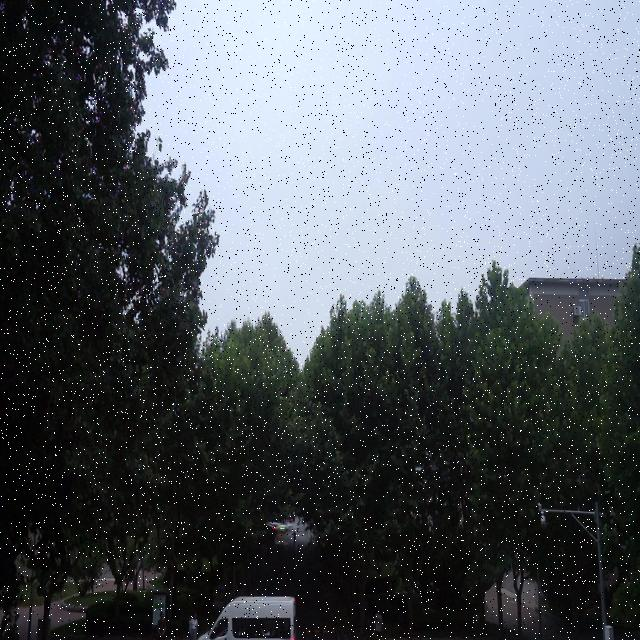UAV: (265, 522, 293, 545)
